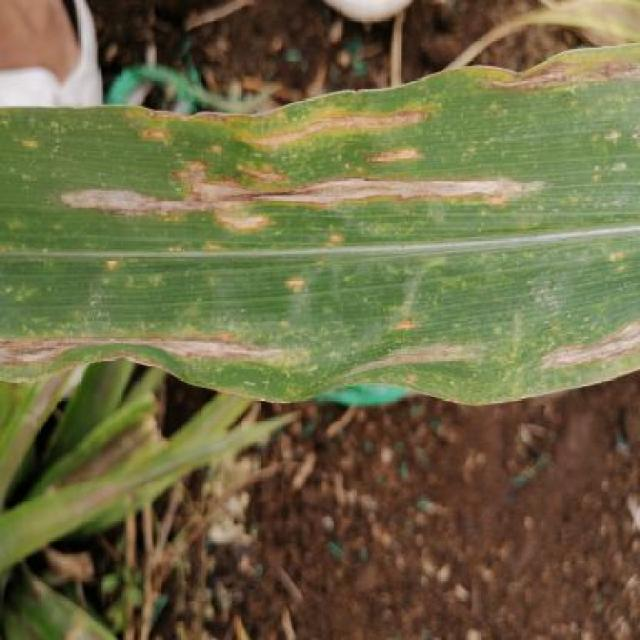Corn_Leaf_Blight: (0, 39, 640, 406)
